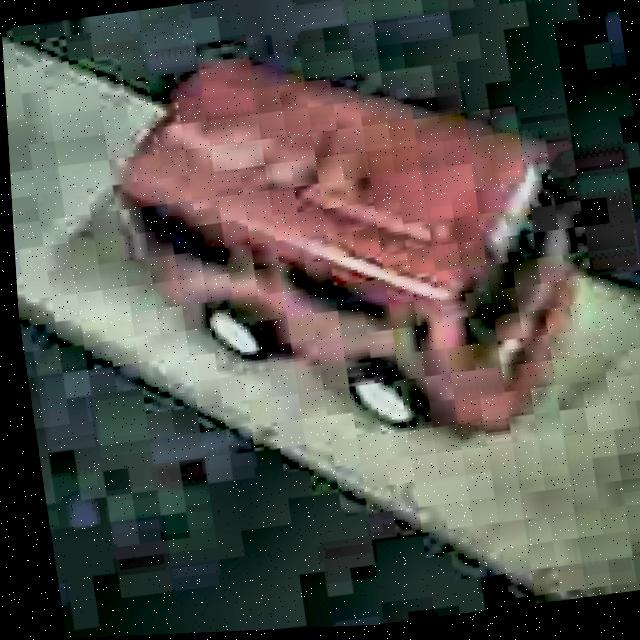bus: (92, 12, 599, 484)
